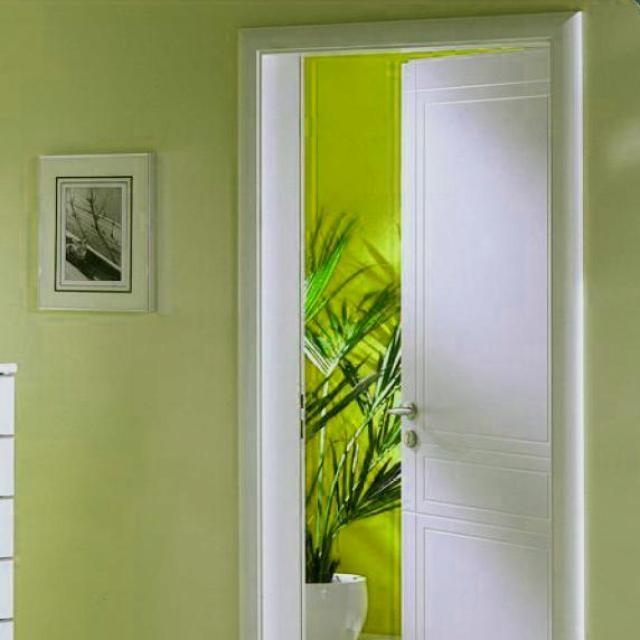door: (396, 45, 554, 639)
